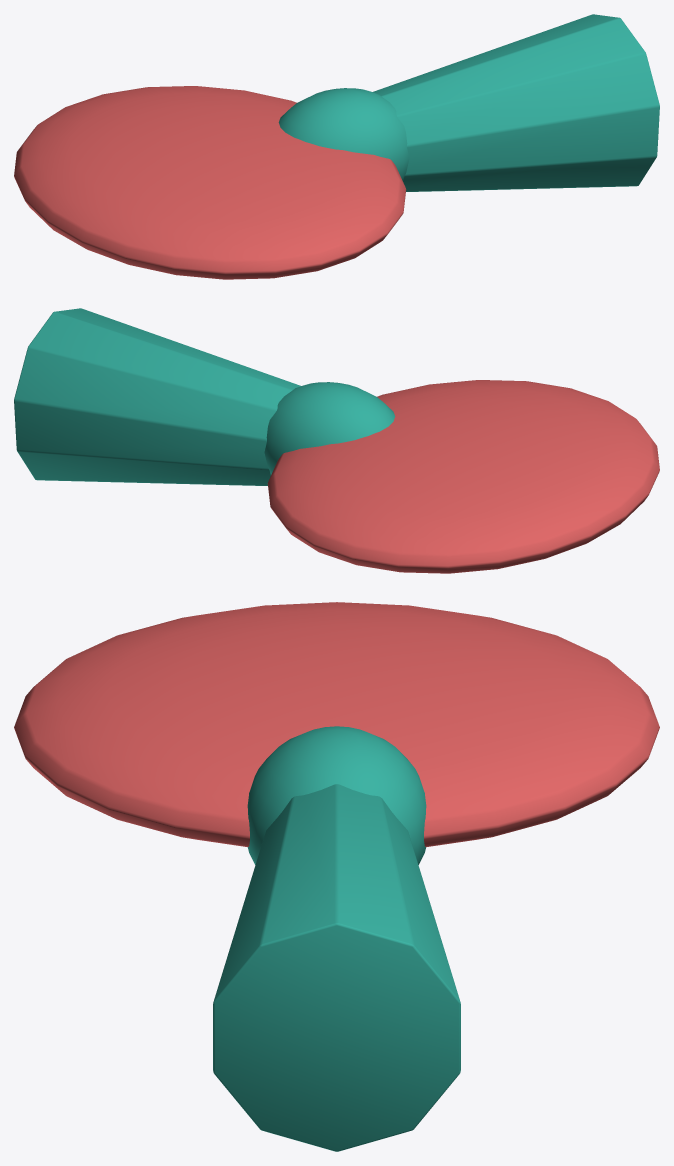
File: tail_paddle.glb
3 renders of one model, top to bottom at view 1: azimuth 30°, elevation 25°; view 2: azimuth 150°, elevation 25°; view 3: azimuth 270°, elevation 25°, orthographic. The views are drawn at different scales.
Parts seen in each view (by area): view 1: tail_paddle; view 2: tail_paddle; view 3: tail_paddle.
Boxes of the visible parts, x1,y1,x2,y2 form: tail_paddle: (14,14,659,279); tail_paddle: (14,308,659,573); tail_paddle: (14,602,659,1151).
Size of the model in its own units: 1.83 by 0.4961 by 1.24.
